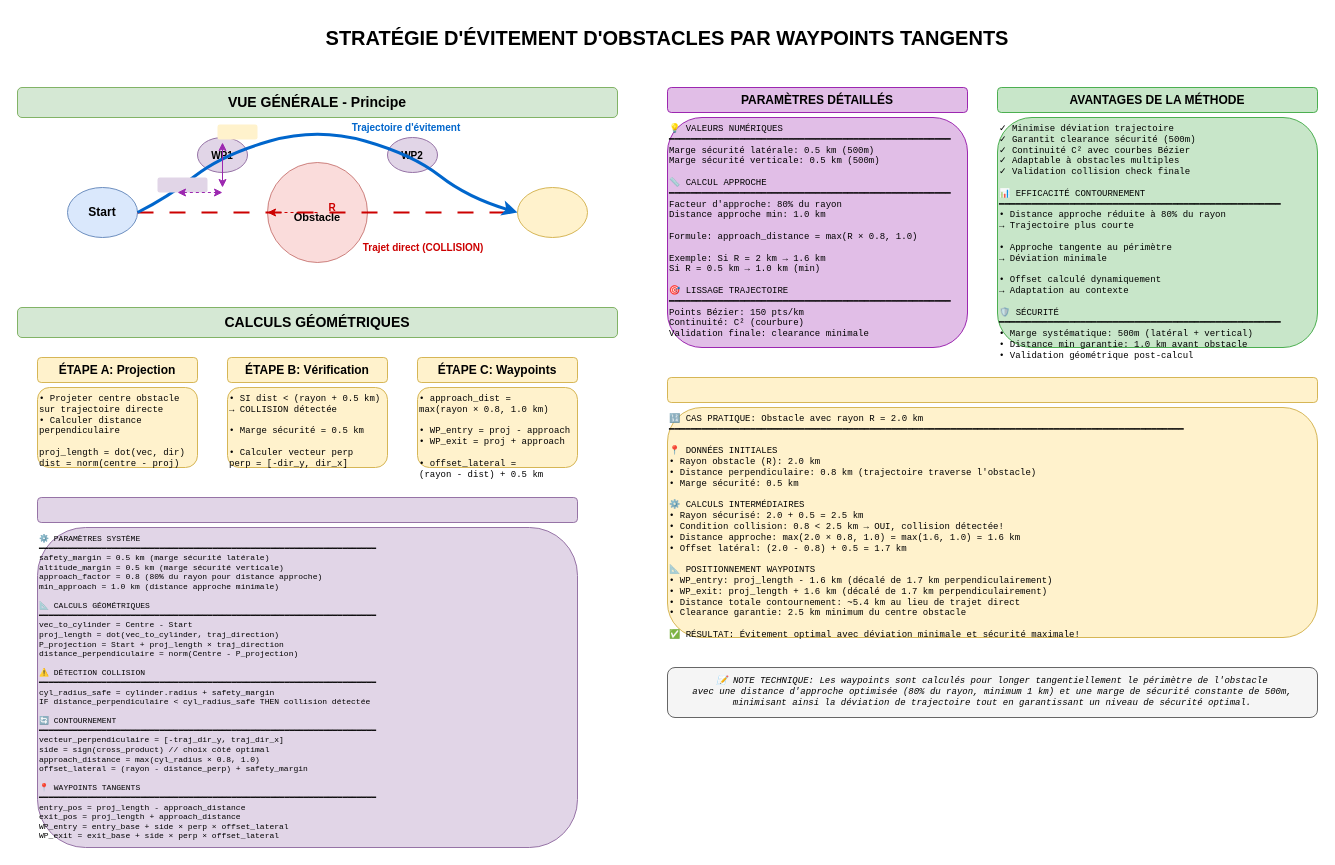
Some shapes in this 1335 by 865 pixel diagram are drawn without their labels. Here are the shapes that lost their labels. From the top down, the centre of each, then its label:
(237,131): 0.5 km
(182,184): 80% × R
(552,212): FAF
(992,389): EXEMPLE NUMÉRIQUE DÉTAILLÉ
(307,509): FORMULES CLÉS
